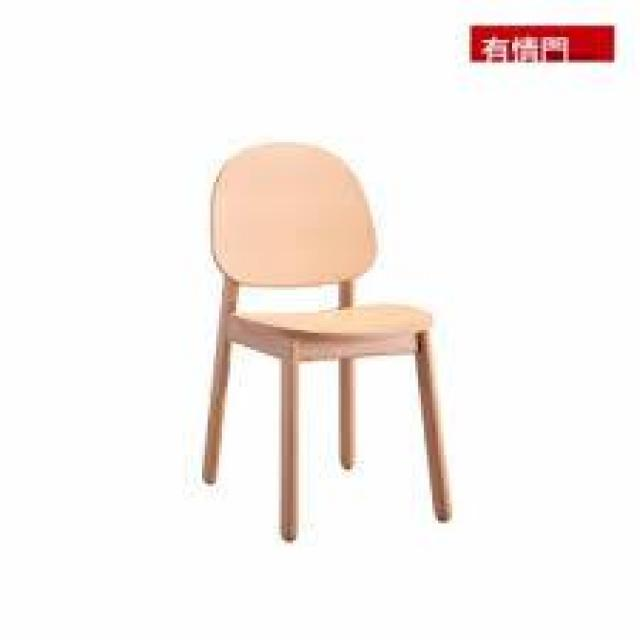chair: (125, 120, 489, 546)
